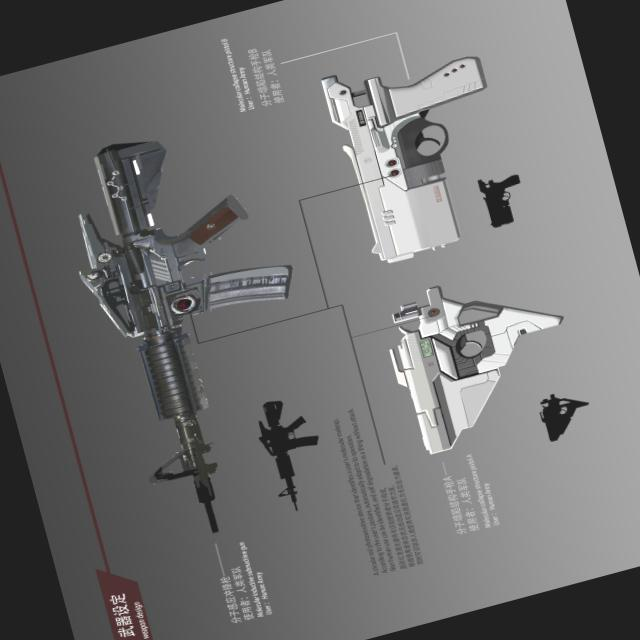long weapon: (16, 112, 304, 574)
